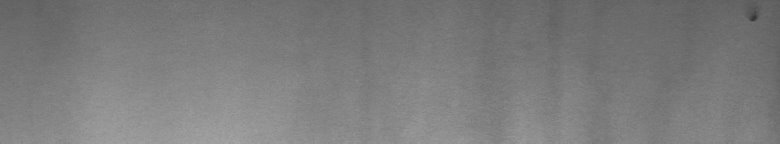fi: (744, 10, 760, 28)
